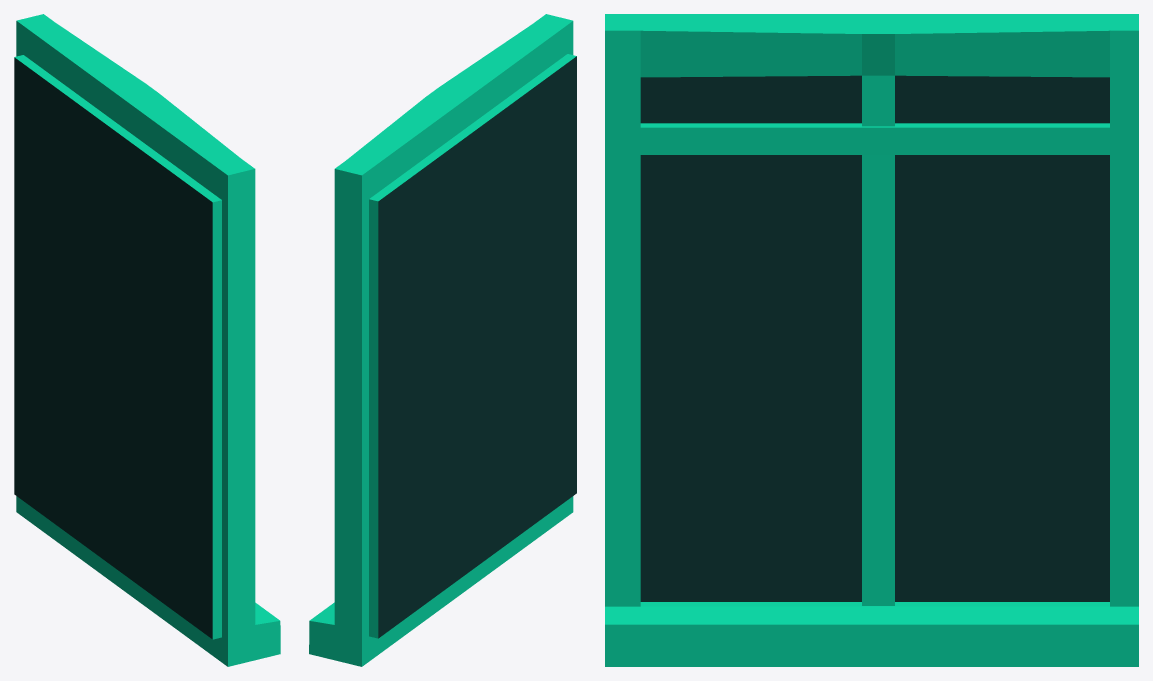
File: window1.fbx
3 renders of one model, left to right at view 1: azimuth 30°, elevation 25°; view 2: azimuth 150°, elevation 25°; view 3: azimuth 270°, elevation 25°, orthographic. The views are drawn at different scales.
Visible parts, largest first — view 1: Cube.010; view 2: Cube.010; view 3: Cube.010.
Part boxes in pixels (x1,y1,x2,y2): Cube.010: [14, 14, 280, 666]; Cube.010: [309, 14, 576, 666]; Cube.010: [605, 14, 1138, 666].
Size of the model in its own units: 50.93 by 385 by 300.
